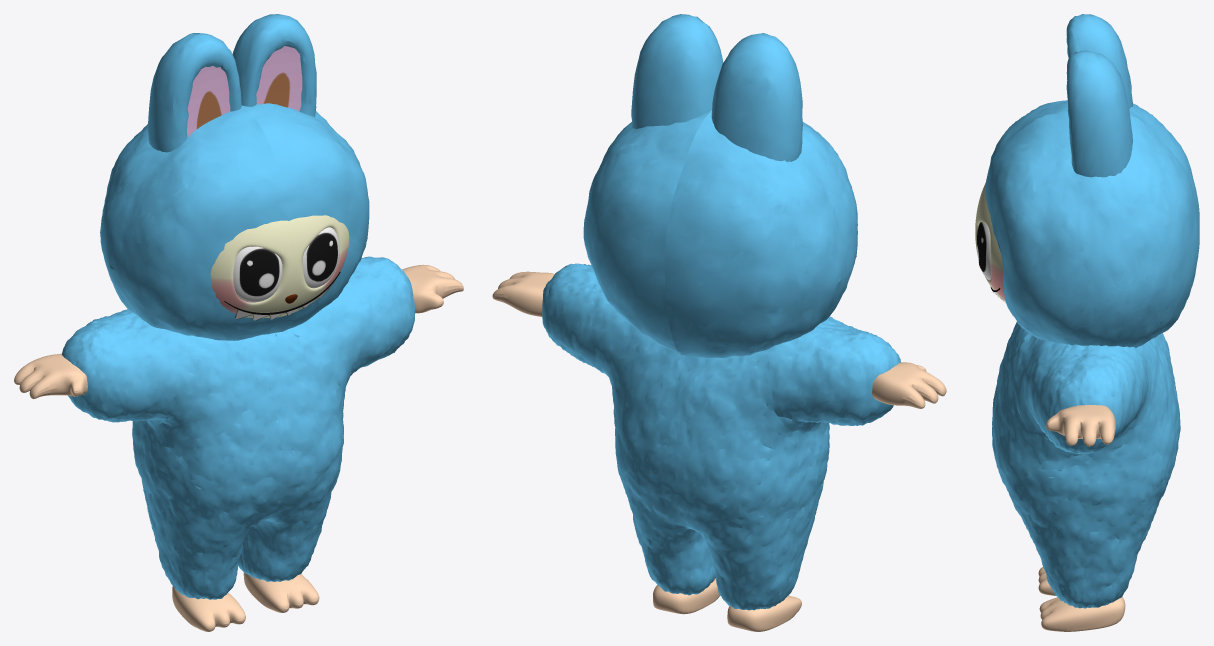
The model's file is labubu-soft.glb.
3 views of the same model, side by side, from view 1: azimuth 30°, elevation 25°; view 2: azimuth 150°, elevation 25°; view 3: azimuth 270°, elevation 25° (orthographic). The views are drawn at different scales.
Parts seen in each view (by area): view 1: Object_4, Object_9, Object_5, Object_8, Object_6, Object_7; view 2: Object_4, Object_8, Object_7; view 3: Object_4, Object_7, Object_8, Object_9, Object_6.
Part boxes in pixels (<box>): Object_4: <box>61,14,415,599</box>; Object_9: <box>210,215,349,318</box>; Object_5: <box>187,46,302,136</box>; Object_8: <box>14,264,463,399</box>; Object_6: <box>233,227,339,302</box>; Object_7: <box>172,572,319,631</box>; Object_4: <box>542,14,901,610</box>; Object_8: <box>492,271,946,408</box>; Object_7: <box>653,578,801,631</box>; Object_4: <box>984,14,1199,608</box>; Object_7: <box>1038,567,1125,631</box>; Object_8: <box>1046,405,1115,446</box>; Object_9: <box>975,183,1005,301</box>; Object_6: <box>977,222,991,280</box>.
Size of the model in its own units: 0.5339 by 0.6819 by 0.2443.
10 materials, 4 textured.
